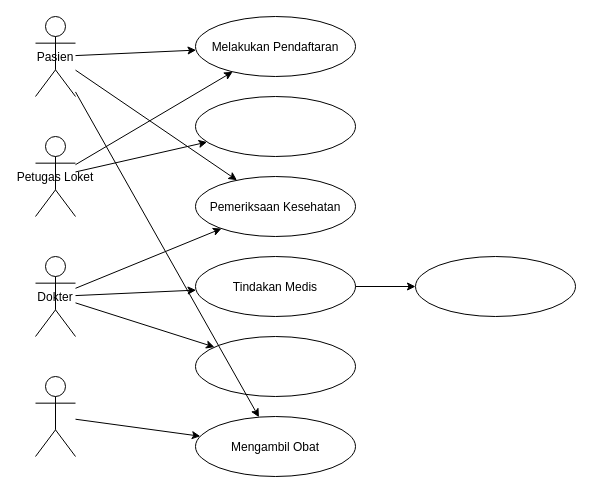
This 592x493 diagram has some shape labels left out. Each missing label, with the centre of its shape:
"Apoteker" goes at (x=55, y=416).
"Memberikan Resep" goes at (x=275, y=366).
"Memeriksa Data Pasien" goes at (x=275, y=126).
"Tes Laboratorium" goes at (x=495, y=286).
